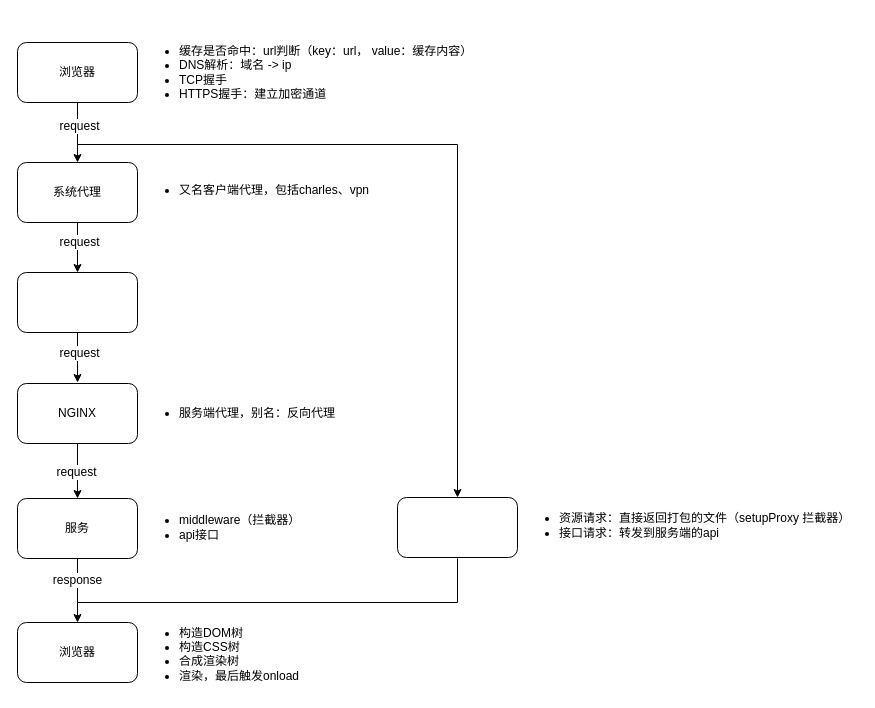
Some shapes in this 875 by 708 pixel diagram are drawn without their labels. The shapes that lost their labels are listed below. From the top down, each one's centre as x and y in pixels, then its label:
pixel 77 302: CDN
pixel 457 527: webpack起dev-server
